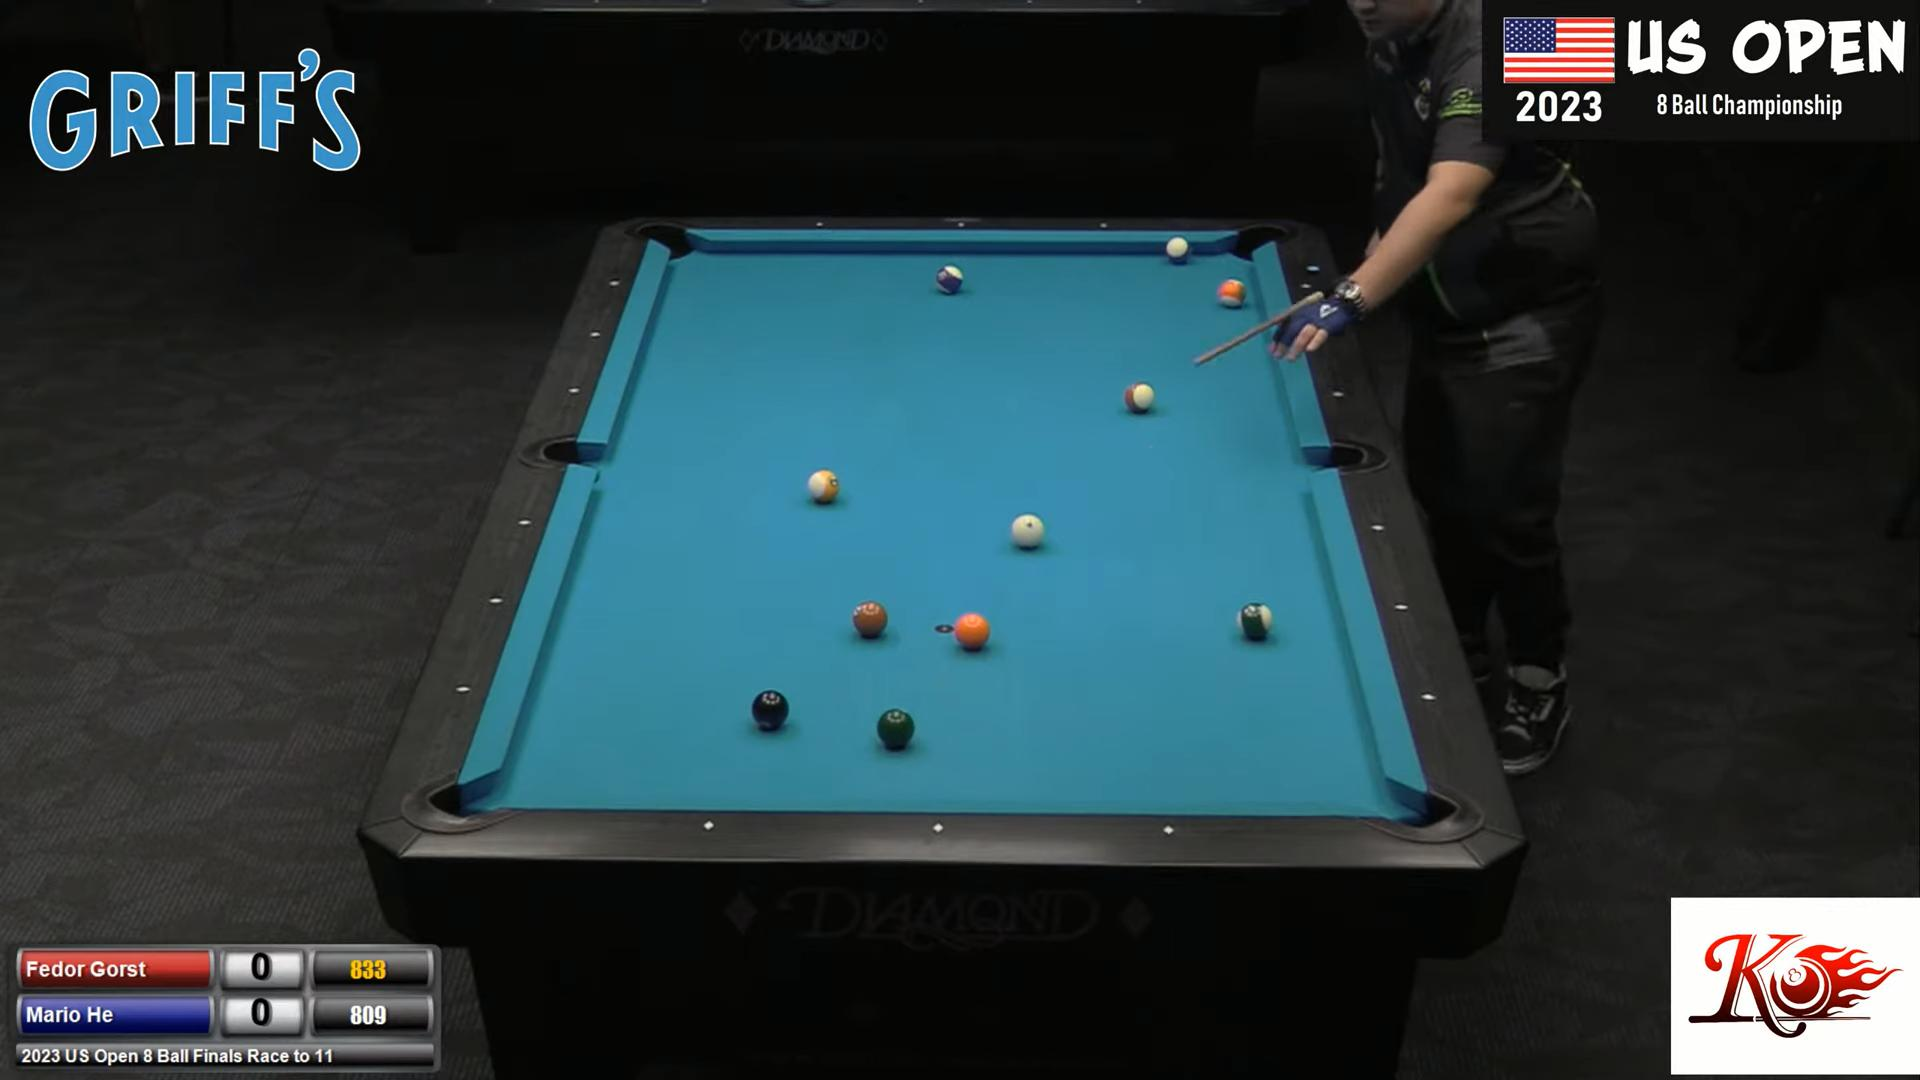Black: (752, 691, 789, 728)
Cue: (1011, 514, 1044, 547)
Dot: (588, 327, 603, 342), (953, 218, 968, 232), (1331, 386, 1345, 401), (1394, 600, 1408, 615), (1422, 690, 1436, 704), (1162, 823, 1176, 837), (456, 682, 469, 696), (489, 593, 504, 607), (567, 384, 582, 397), (608, 276, 621, 290), (1299, 280, 1313, 293), (1371, 521, 1385, 535), (931, 822, 945, 835), (702, 819, 716, 832), (518, 516, 531, 529), (814, 218, 827, 231), (1097, 219, 1110, 232)
Solid: (877, 708, 915, 746), (953, 612, 990, 649), (852, 601, 887, 636)
Striped: (1237, 601, 1273, 637), (807, 469, 840, 502), (1125, 381, 1154, 413), (1217, 278, 1247, 307), (936, 265, 964, 294), (1166, 237, 1189, 260)
